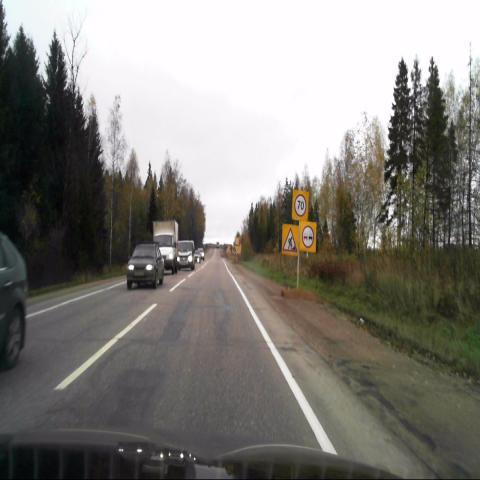1_25: (282, 224, 298, 254)
